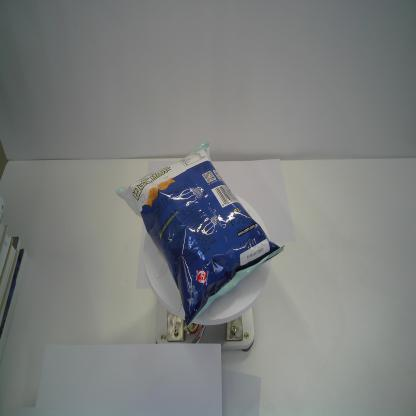Puffed Food: (114, 140, 286, 326)
